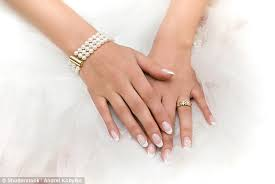hand: (64, 35, 229, 174)
